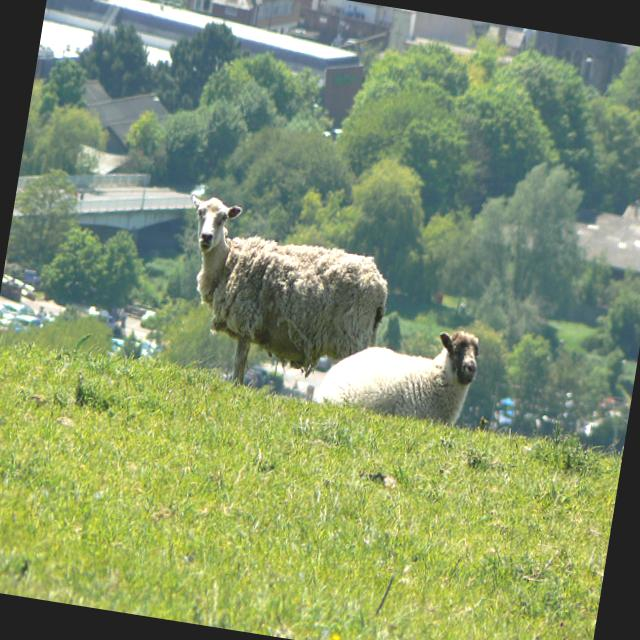Vehicle: (12, 312, 44, 335), (139, 308, 159, 330), (0, 304, 18, 319)
